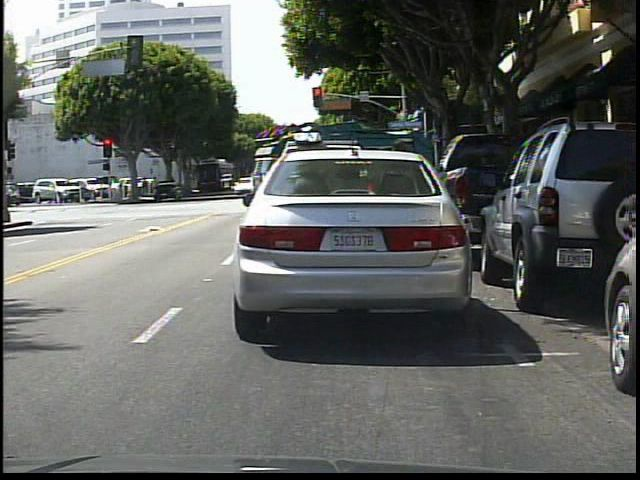person: (383, 134, 423, 269)
